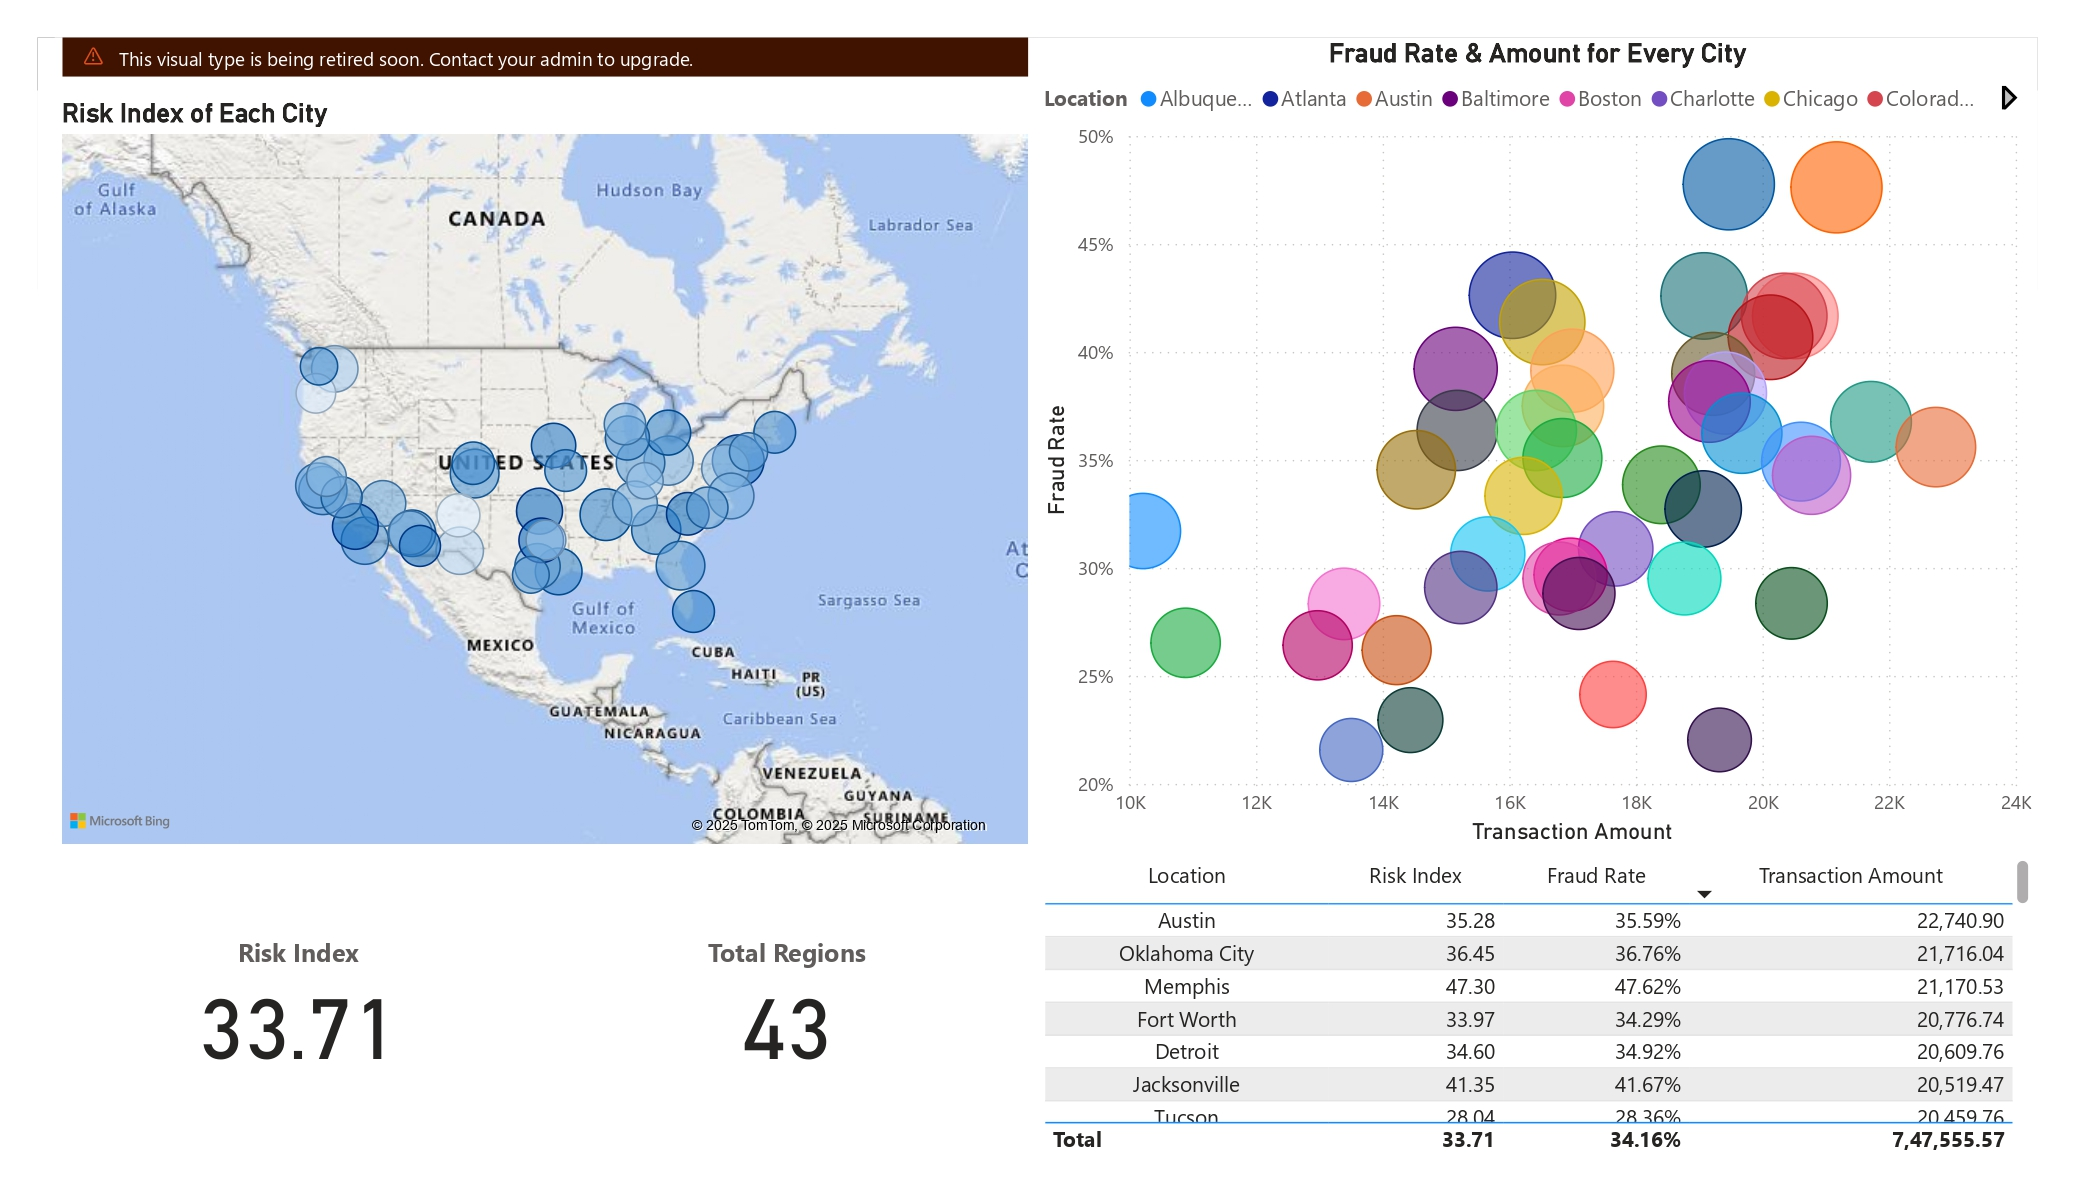

Layout of this report page (visuals, bound fields, positions):
{"tool":"powerbi","page":{"name":"Regional Risk Insights","canvas":[1280,720],"ordinal":2},"visuals":[{"type":"map","title":"Risk Index of Each City","fields":{"Category":["Bank_Transactions.Location"],"Size":["Bank_Transactions.RiskIndex"]},"box":[10.7,0,628.2,521.3],"z":0},{"type":"cardVisual","fields":{"Data":["Bank_Transactions.RiskIndex"]},"box":[10.7,521.3,312.8,197.8],"z":1000},{"type":"cardVisual","fields":{"Data":["Bank_Transactions.TotalRegions"]},"box":[323.5,521.3,312.8,197.8],"z":2000},{"type":"scatterChart","title":"Fraud Rate & Amount for Every City","fields":{"X":["Sum(Bank_Transactions.TransactionAmount)"],"Y":["Bank_Transactions.FraudRate"],"Size":["Bank_Transactions.RiskIndex"],"Series":["Bank_Transactions.Location"]},"box":[638.9,0,641.6,521.3],"z":3000},{"type":"tableEx","fields":{"Values":["Bank_Transactions.Location","Bank_Transactions.RiskIndex","Bank_Transactions.FraudRate","Sum(Bank_Transactions.TransactionAmount)"]},"box":[638.7,520.7,641.6,199.1],"z":4000}]}

Visuals, with their boxes in screenshot pixels (x1, y1, x2, y2):
"Risk Index of Each City" map: x1=54, y1=38, x2=1036, y2=852
cardVisual - Bank_Transactions.RiskIndex: x1=54, y1=852, x2=543, y2=1161
cardVisual - Bank_Transactions.TotalRegions: x1=543, y1=852, x2=1032, y2=1161
"Fraud Rate & Amount for Every City" scatterChart: x1=1036, y1=38, x2=2038, y2=852
tableEx - Bank_Transactions.Location x Bank_Transactions.RiskIndex: x1=1035, y1=851, x2=2038, y2=1162
